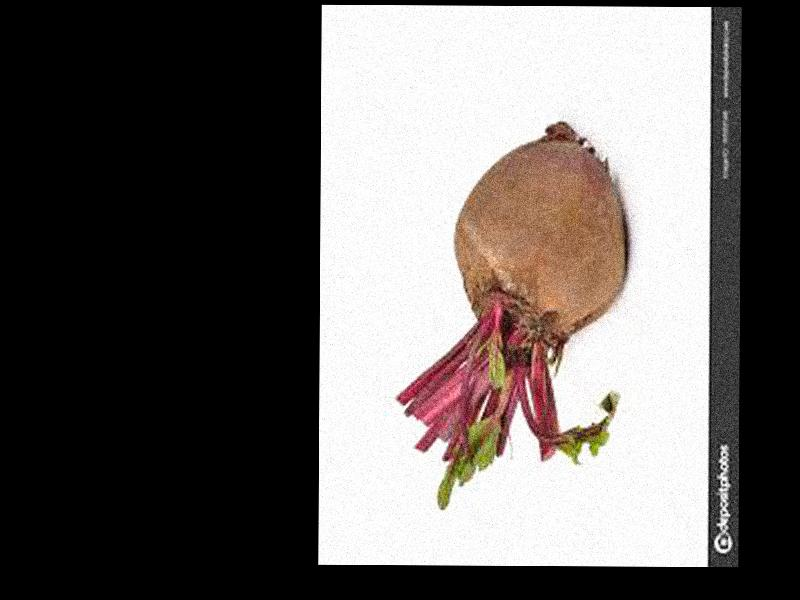Beet: (395, 120, 630, 510)
